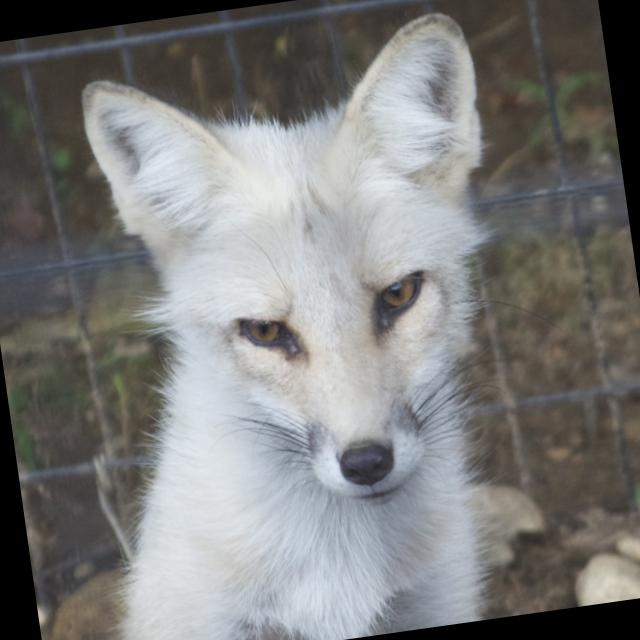fox: (30, 0, 622, 616)
